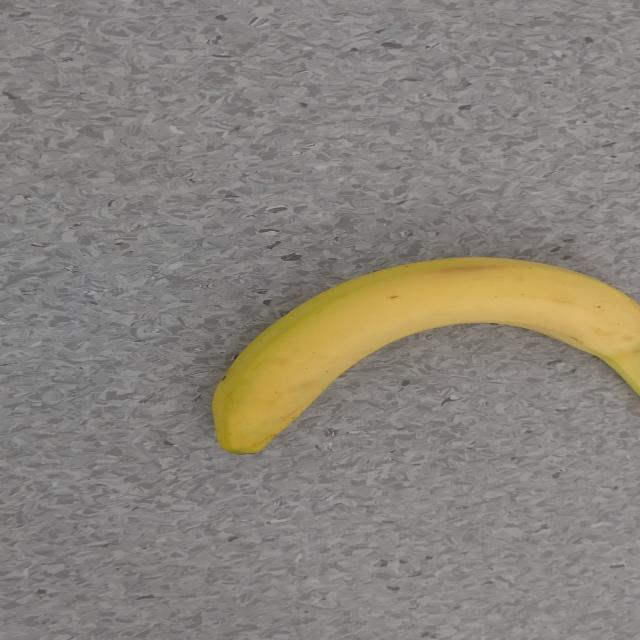banana: (210, 256, 639, 455)
